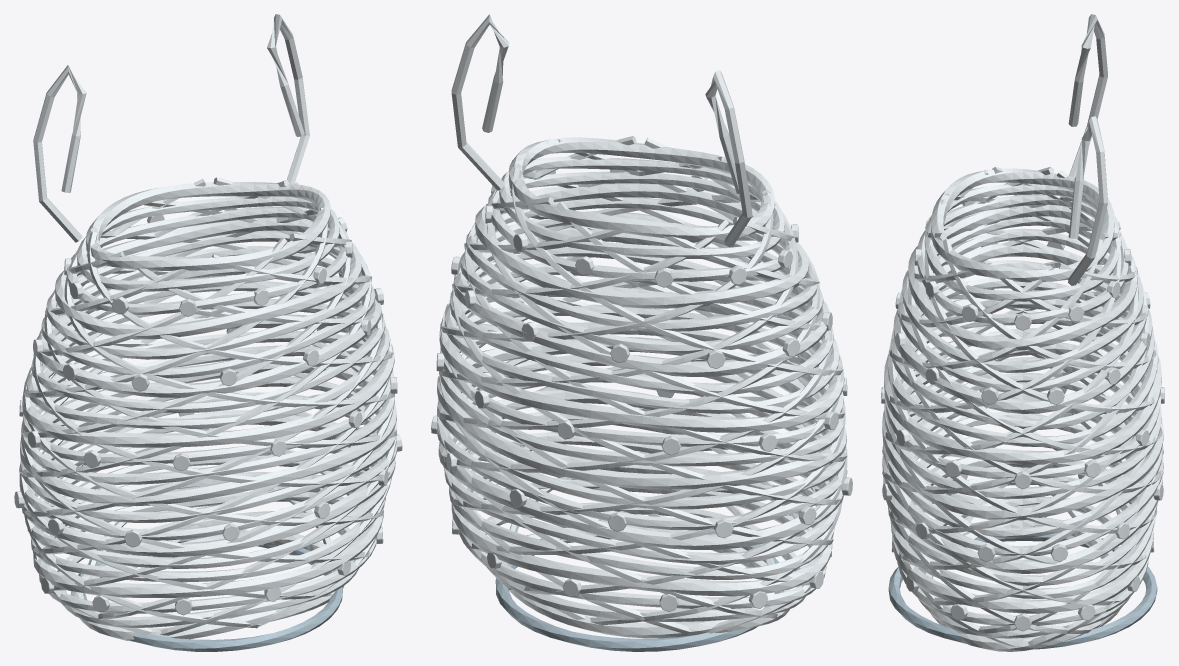
File: Web_Cocoon.fbx
3 views of the same model, side by side, from view 1: azimuth 30°, elevation 25°; view 2: azimuth 150°, elevation 25°; view 3: azimuth 270°, elevation 25° (orthographic). The views are drawn at different scales.
Visible parts, largest first — view 1: Web_Cocoon__Wraps1__web_white, Web_Cocoon__Wraps2__web_white, Web_Cocoon__Wraps0__web_white, Web_Cocoon__Diagonal1__web_white, Web_Cocoon__Diagonal-1__web_white, Web_Cocoon__LooseSilk__web_white, Handle, Web_Cocoon__Studs1__web_white, Web_Cocoon__Studs0__web_white, Web_Cocoon__Studs2__web_white; view 2: Web_Cocoon__Wraps1__web_white, Web_Cocoon__Wraps2__web_white, Web_Cocoon__Wraps0__web_white, Web_Cocoon__Diagonal1__web_white, Web_Cocoon__Diagonal-1__web_white, Web_Cocoon__LooseSilk__web_white, Handle, Web_Cocoon__Studs1__web_white, Web_Cocoon__Studs0__web_white, Web_Cocoon__Studs2__web_white; view 3: Web_Cocoon__Wraps1__web_white, Web_Cocoon__Wraps2__web_white, Web_Cocoon__Wraps0__web_white, Web_Cocoon__Diagonal1__web_white, Web_Cocoon__Diagonal-1__web_white, Web_Cocoon__LooseSilk__web_white, Handle, Web_Cocoon__Studs1__web_white, Web_Cocoon__Studs0__web_white, Web_Cocoon__Studs2__web_white.
Boxes of the visible parts, bbox=[...] form: Web_Cocoon__Wraps1__web_white: bbox=[20, 262, 396, 522]; Web_Cocoon__Wraps2__web_white: bbox=[41, 182, 375, 378]; Web_Cocoon__Wraps0__web_white: bbox=[19, 392, 397, 641]; Web_Cocoon__Diagonal1__web_white: bbox=[19, 177, 397, 635]; Web_Cocoon__Diagonal-1__web_white: bbox=[19, 178, 396, 634]; Web_Cocoon__LooseSilk__web_white: bbox=[33, 14, 309, 242]; Handle: bbox=[78, 534, 342, 651]; Web_Cocoon__Studs1__web_white: bbox=[19, 261, 397, 470]; Web_Cocoon__Studs0__web_white: bbox=[14, 409, 402, 615]; Web_Cocoon__Studs2__web_white: bbox=[64, 208, 352, 316]; Web_Cocoon__Wraps1__web_white: bbox=[437, 227, 846, 509]; Web_Cocoon__Wraps2__web_white: bbox=[460, 137, 823, 353]; Web_Cocoon__Wraps0__web_white: bbox=[436, 371, 847, 638]; Web_Cocoon__Diagonal1__web_white: bbox=[437, 137, 847, 633]; Web_Cocoon__Diagonal-1__web_white: bbox=[437, 136, 847, 634]; Web_Cocoon__LooseSilk__web_white: bbox=[451, 14, 752, 246]; Handle: bbox=[495, 532, 778, 651]; Web_Cocoon__Studs1__web_white: bbox=[436, 256, 847, 455]; Web_Cocoon__Studs0__web_white: bbox=[431, 389, 852, 611]; Web_Cocoon__Studs2__web_white: bbox=[485, 169, 798, 287]; Web_Cocoon__Wraps1__web_white: bbox=[882, 242, 1163, 538]; Web_Cocoon__Wraps2__web_white: bbox=[898, 168, 1147, 392]; Web_Cocoon__Wraps0__web_white: bbox=[882, 372, 1163, 651]; Web_Cocoon__Diagonal1__web_white: bbox=[882, 166, 1163, 646]; Web_Cocoon__Diagonal-1__web_white: bbox=[882, 166, 1163, 646]; Web_Cocoon__LooseSilk__web_white: bbox=[1068, 14, 1107, 285]; Handle: bbox=[888, 532, 1157, 649]; Web_Cocoon__Studs1__web_white: bbox=[881, 241, 1164, 488]; Web_Cocoon__Studs0__web_white: bbox=[882, 387, 1163, 631]; Web_Cocoon__Studs2__web_white: bbox=[914, 194, 1131, 330].
Size of the model in its own units: 3.48 by 4.98 by 2.42.
2 materials, 2 textured.
